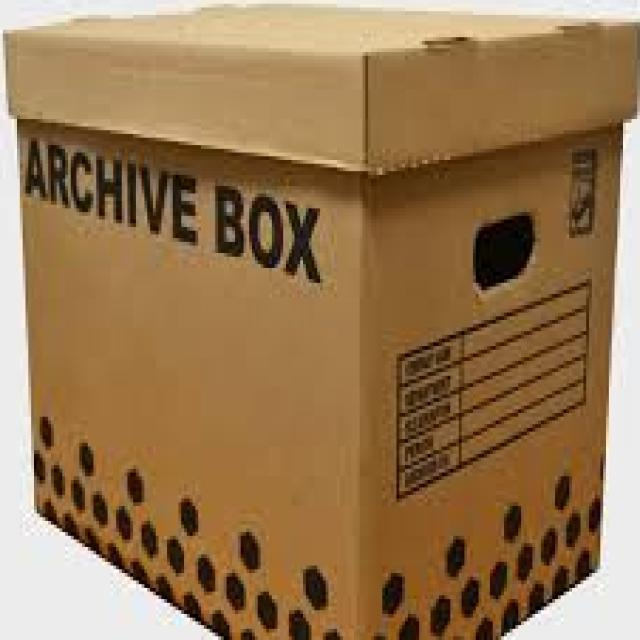box: (1, 4, 640, 640)
normal_hole: (471, 213, 538, 291)
